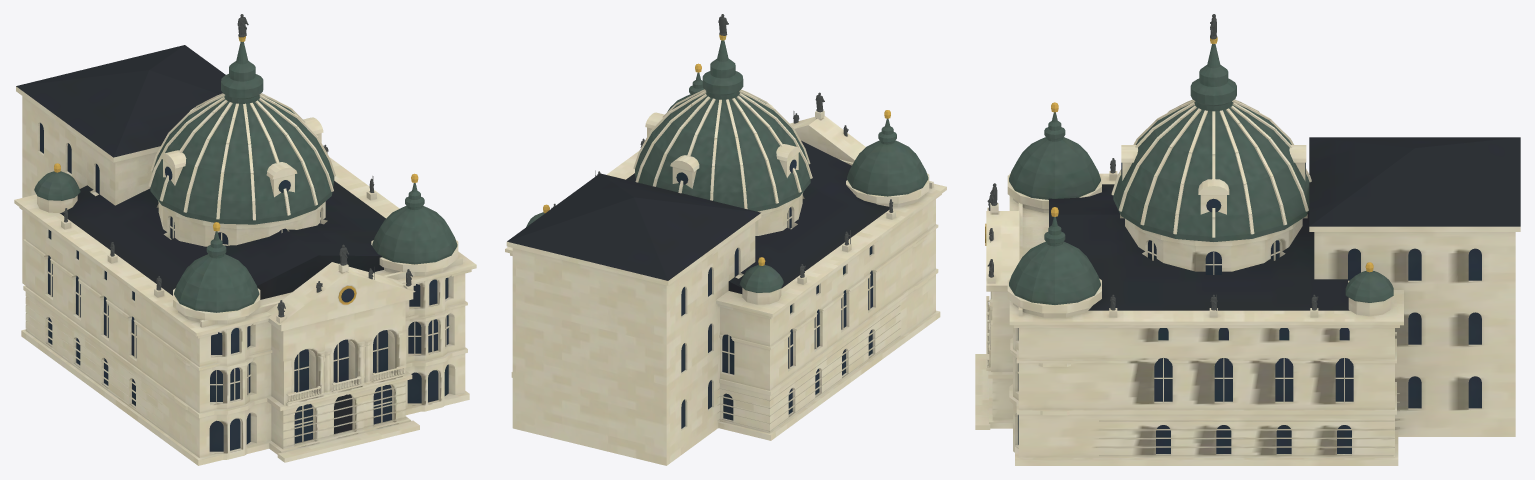
Rendered from theatre.glb.
3 views of the same model, side by side, from view 1: azimuth 30°, elevation 25°; view 2: azimuth 150°, elevation 25°; view 3: azimuth 270°, elevation 25° (orthographic). The views are drawn at different scales.
Visible parts, largest first — view 1: theatre_LOD0; view 2: theatre_LOD0; view 3: theatre_LOD0.
Part boxes in pixels (x1,y1,x2,y2): theatre_LOD0: (14, 14, 476, 465); theatre_LOD0: (505, 14, 946, 465); theatre_LOD0: (975, 14, 1520, 465).
Size of what is drawn, in the model's own units: 34.8 by 41.7 by 54.2.
1 material, 1 textured.
